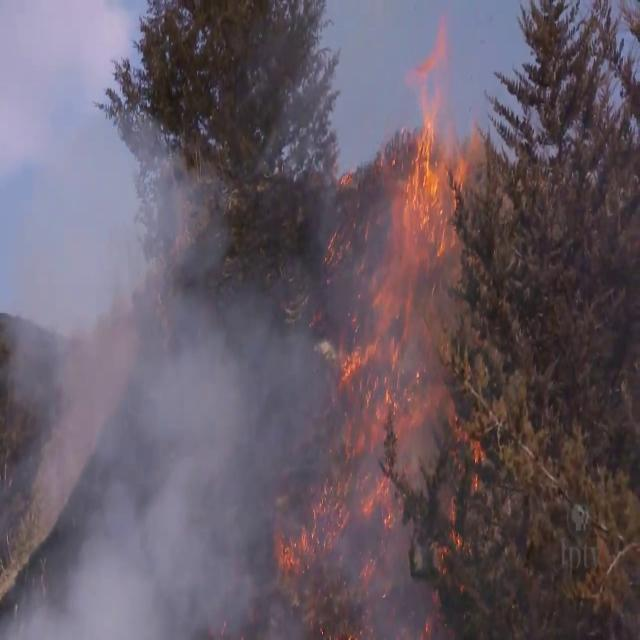Fire: (272, 14, 486, 640)
Smoke: (0, 111, 454, 637)
